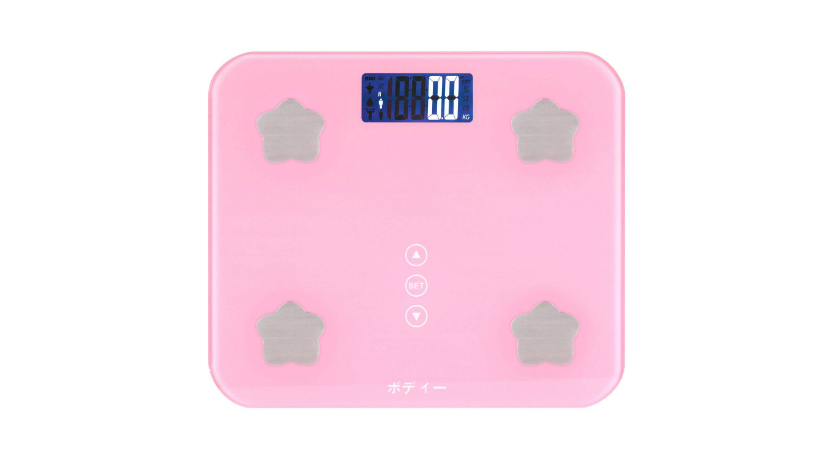LCD: (361, 71, 475, 125)
